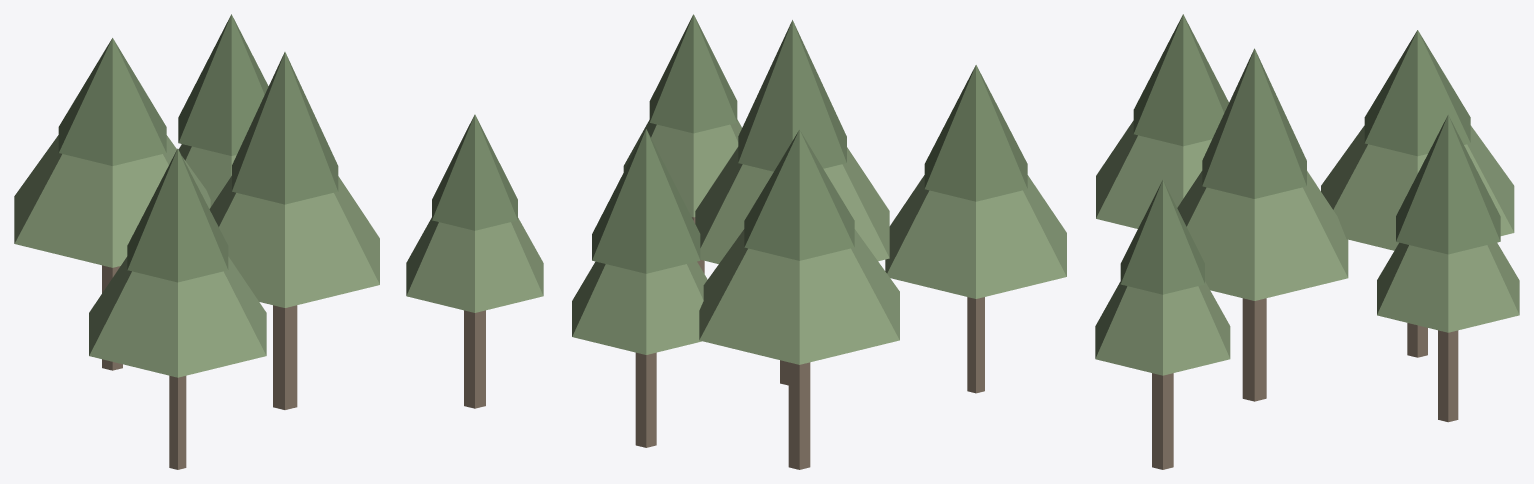
File: tree_cluster.glb
3 views of the same model, side by side, from view 1: azimuth 30°, elevation 25°; view 2: azimuth 150°, elevation 25°; view 3: azimuth 270°, elevation 25° (orthographic). The views are drawn at different scales.
Parts seen in each view (by area): view 1: tree3_leaf_clump_01, tree1_leaf_clump_01, tree5_leaf_clump_01, tree2_leaf_clump_01, tree1_leaf_clump_02, tree5_leaf_clump_02, tree3_leaf_clump_02, tree4_leaf_clump_02, tree2_leaf_clump_02, tree1_trunk_01, tree2_trunk_01, tree4_leaf_clump_01 (+1 smaller); view 2: tree5_leaf_clump_01, tree3_leaf_clump_01, tree4_leaf_clump_01, tree4_leaf_clump_02, tree1_leaf_clump_02, tree5_leaf_clump_02, tree3_leaf_clump_02, tree1_leaf_clump_01, tree2_leaf_clump_02, tree2_leaf_clump_01, tree5_trunk_01, tree4_trunk_01 (+1 smaller); view 3: tree1_leaf_clump_01, tree4_leaf_clump_01, tree2_leaf_clump_01, tree5_leaf_clump_01, tree1_leaf_clump_02, tree4_leaf_clump_02, tree5_leaf_clump_02, tree3_leaf_clump_02, tree3_leaf_clump_01, tree2_leaf_clump_02, tree1_trunk_01, tree2_trunk_01 (+2 smaller).
Boxes of the visible parts, x1,y1,x2,y2 form: tree3_leaf_clump_01: (89, 256, 266, 377); tree1_leaf_clump_01: (209, 176, 379, 307); tree5_leaf_clump_01: (14, 135, 210, 267); tree2_leaf_clump_01: (406, 217, 543, 312); tree1_leaf_clump_02: (232, 52, 338, 204); tree5_leaf_clump_02: (58, 38, 166, 165); tree3_leaf_clump_02: (127, 148, 228, 282); tree4_leaf_clump_02: (178, 14, 268, 155); tree2_leaf_clump_02: (432, 114, 517, 230); tree1_trunk_01: (273, 305, 297, 409); tree2_trunk_01: (464, 310, 485, 408); tree4_leaf_clump_01: (178, 144, 236, 206); tree5_leaf_clump_01: (699, 229, 899, 364); tree3_leaf_clump_01: (885, 175, 1066, 298); tree4_leaf_clump_01: (572, 261, 707, 354); tree4_leaf_clump_02: (592, 129, 700, 273); tree1_leaf_clump_02: (738, 20, 846, 171); tree5_leaf_clump_02: (744, 130, 854, 260); tree3_leaf_clump_02: (924, 65, 1027, 201); tree1_leaf_clump_01: (695, 147, 889, 263); tree2_leaf_clump_02: (649, 14, 737, 133); tree2_leaf_clump_01: (623, 119, 741, 217); tree5_trunk_01: (788, 362, 810, 469); tree4_trunk_01: (635, 352, 656, 447); tree1_leaf_clump_01: (1177, 171, 1348, 300); tree4_leaf_clump_01: (1377, 242, 1519, 332); tree2_leaf_clump_01: (1095, 281, 1230, 375); tree5_leaf_clump_01: (1321, 125, 1514, 250); tree1_leaf_clump_02: (1202, 48, 1306, 198); tree4_leaf_clump_02: (1396, 115, 1500, 254); tree5_leaf_clump_02: (1364, 30, 1470, 156); tree3_leaf_clump_02: (1133, 14, 1228, 146); tree3_leaf_clump_01: (1096, 120, 1211, 228); tree2_leaf_clump_02: (1120, 180, 1204, 294); tree1_trunk_01: (1242, 298, 1266, 401); tree2_trunk_01: (1152, 373, 1173, 469).
Bounding box in the file's own units: 4.96 × 3.76 × 4.16.
